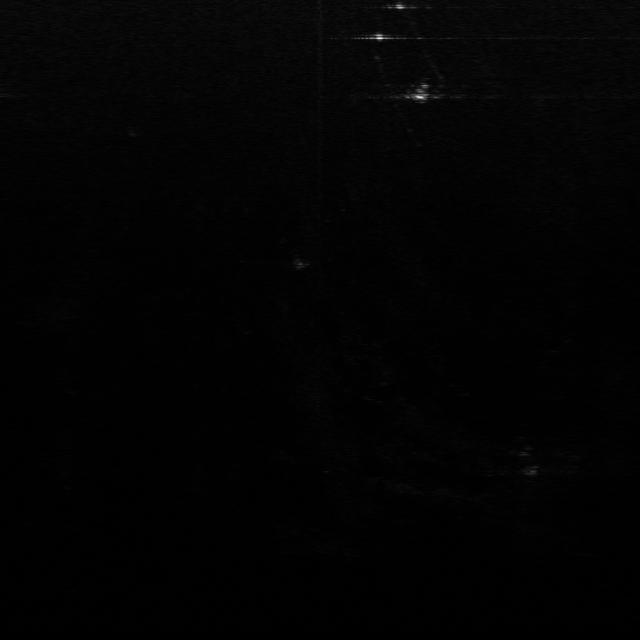rov: (403, 78, 439, 102)
